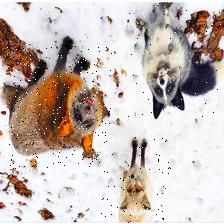fox: (7, 43, 113, 168), (125, 1, 221, 126), (100, 136, 172, 223)
